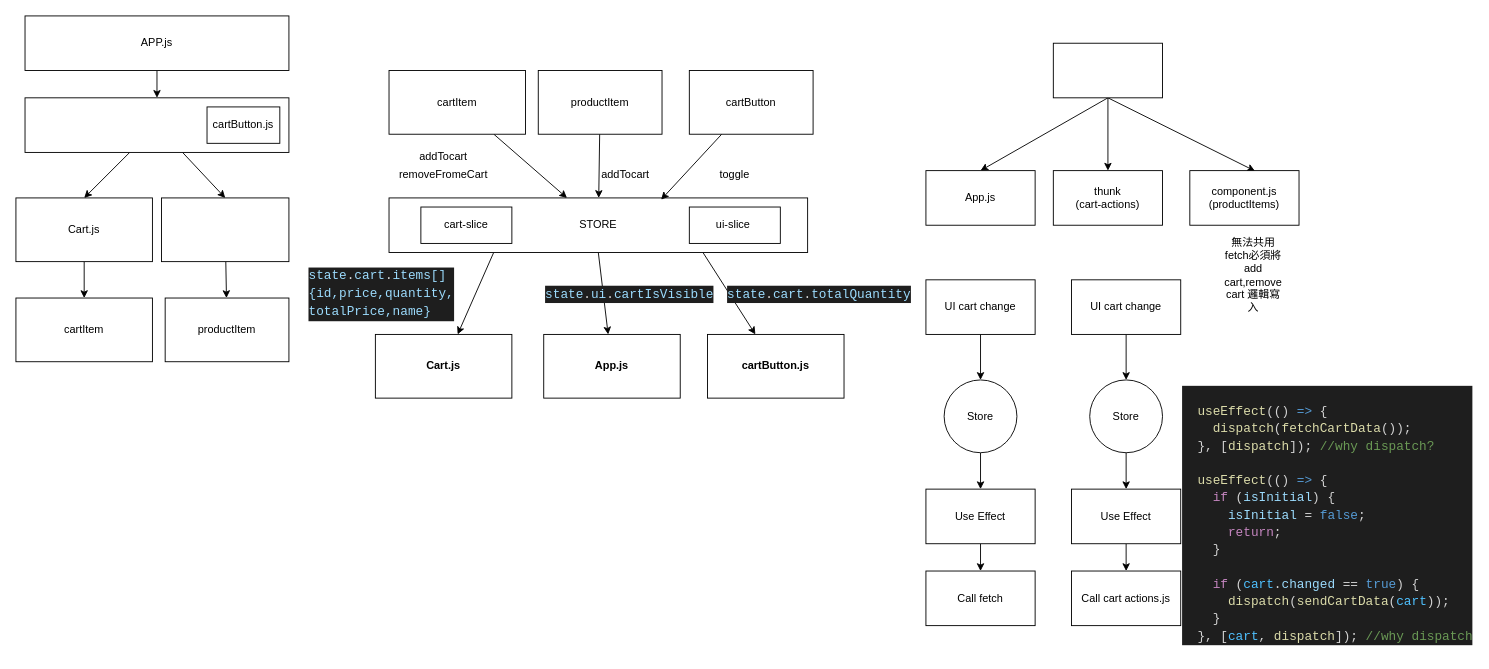
This 1489x669 diagram has some shape labels left out. The shapes that lost their labels are listed below. From the top down, each one's box as (x1, y1, x2, y2) in pixels, then its label:
(1052, 42, 1163, 98): fetch Data
(24, 97, 289, 152): Layout.js
(161, 197, 289, 262): Products.js
